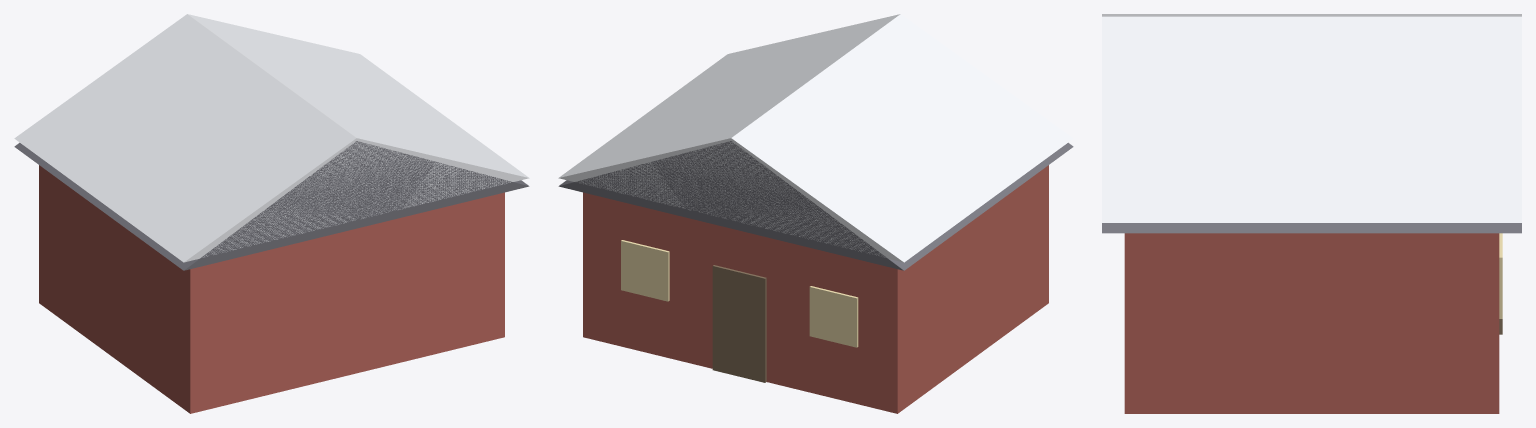
Rendered from house.glb.
3 renders of one model, left to right at view 1: azimuth 30°, elevation 25°; view 2: azimuth 150°, elevation 25°; view 3: azimuth 270°, elevation 25°, orthographic. The views are drawn at different scales.
Size of the model in its own units: 6.6 by 4.45 by 5.6.
